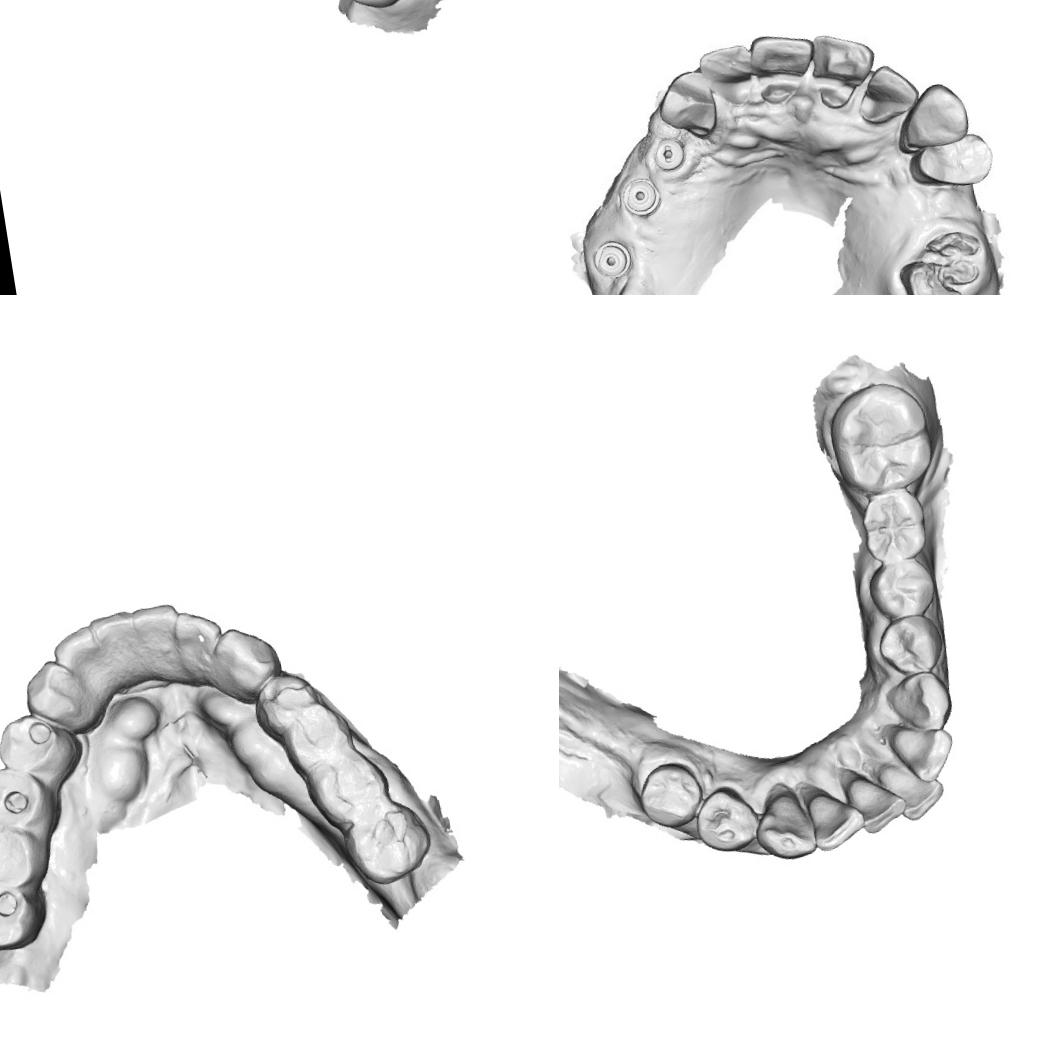canine: (205, 620, 287, 710), (18, 654, 100, 740), (888, 78, 973, 156), (880, 668, 958, 740), (750, 785, 818, 865), (656, 67, 720, 138)
implant: (607, 173, 666, 226), (582, 236, 639, 290)
implant_minus: (646, 132, 688, 174)
incisor: (808, 28, 876, 106), (751, 30, 820, 106), (125, 602, 188, 684), (876, 755, 948, 826), (888, 721, 958, 788), (48, 619, 106, 697), (88, 608, 144, 688), (846, 770, 908, 838), (809, 784, 868, 855), (170, 604, 226, 676), (858, 61, 919, 120), (702, 42, 757, 106)
molar: (822, 376, 942, 502), (336, 800, 436, 893), (302, 746, 396, 827), (853, 482, 931, 564), (0, 876, 46, 956), (0, 816, 46, 894)
premolar: (0, 706, 79, 786), (690, 781, 764, 860), (278, 697, 356, 771), (910, 125, 991, 191), (634, 758, 706, 832), (865, 552, 940, 622), (248, 668, 318, 738), (875, 613, 946, 681), (0, 762, 58, 834)
